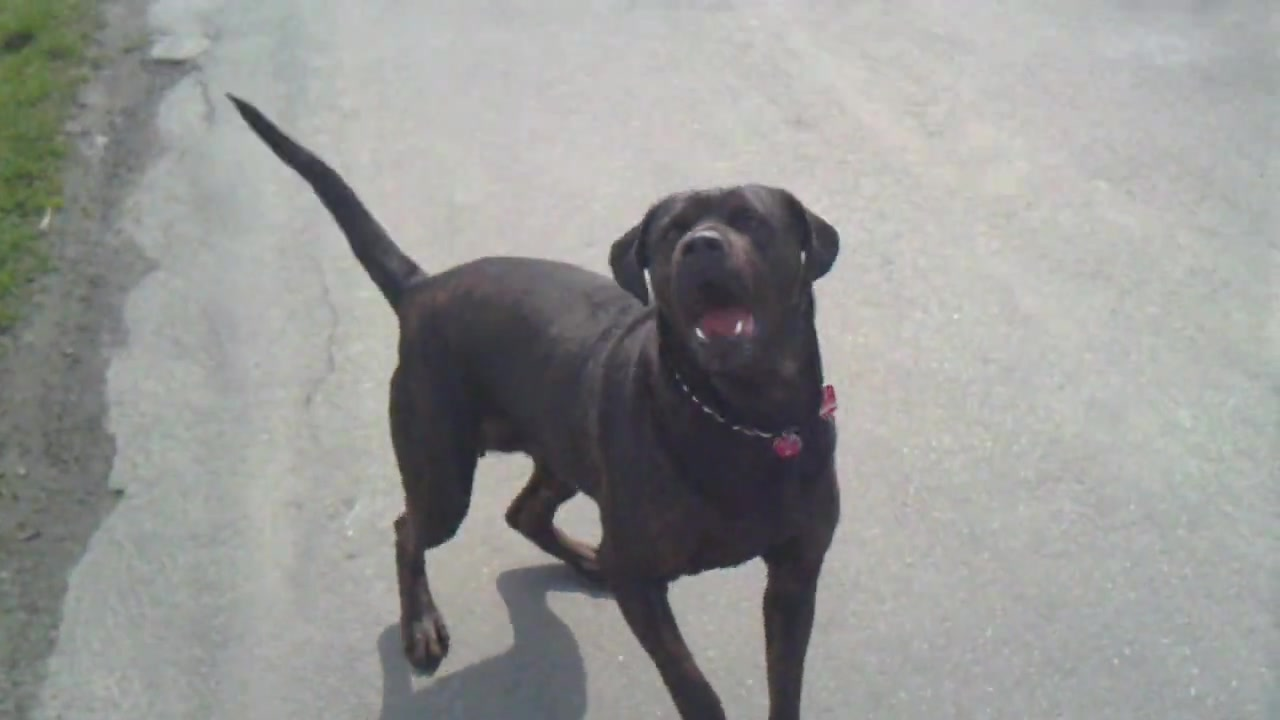dog: (225, 91, 843, 720)
